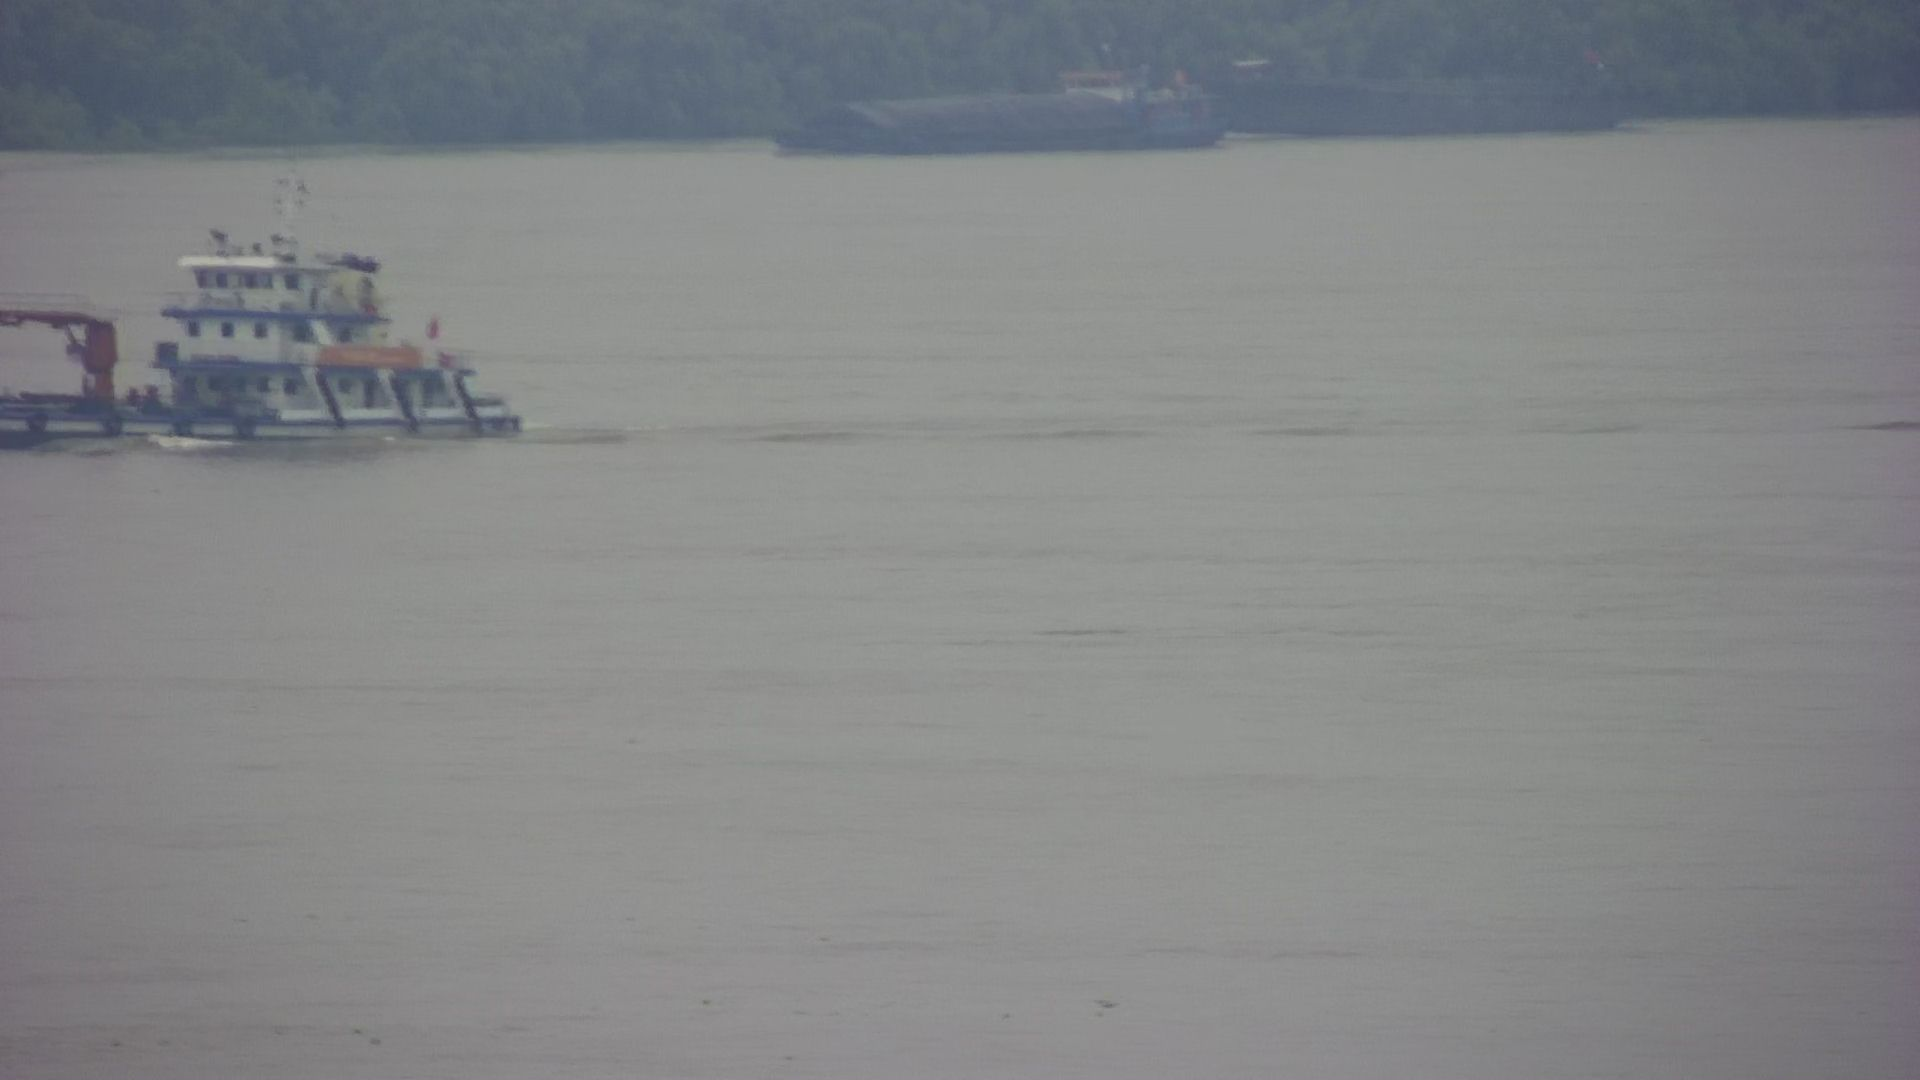ship: (1, 149, 560, 458), (746, 47, 1253, 162), (1233, 36, 1671, 152)
